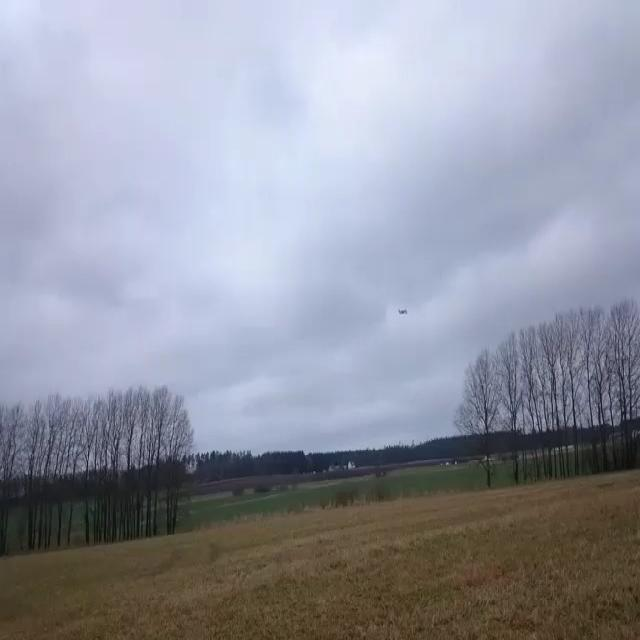drone: (398, 309, 407, 314)
